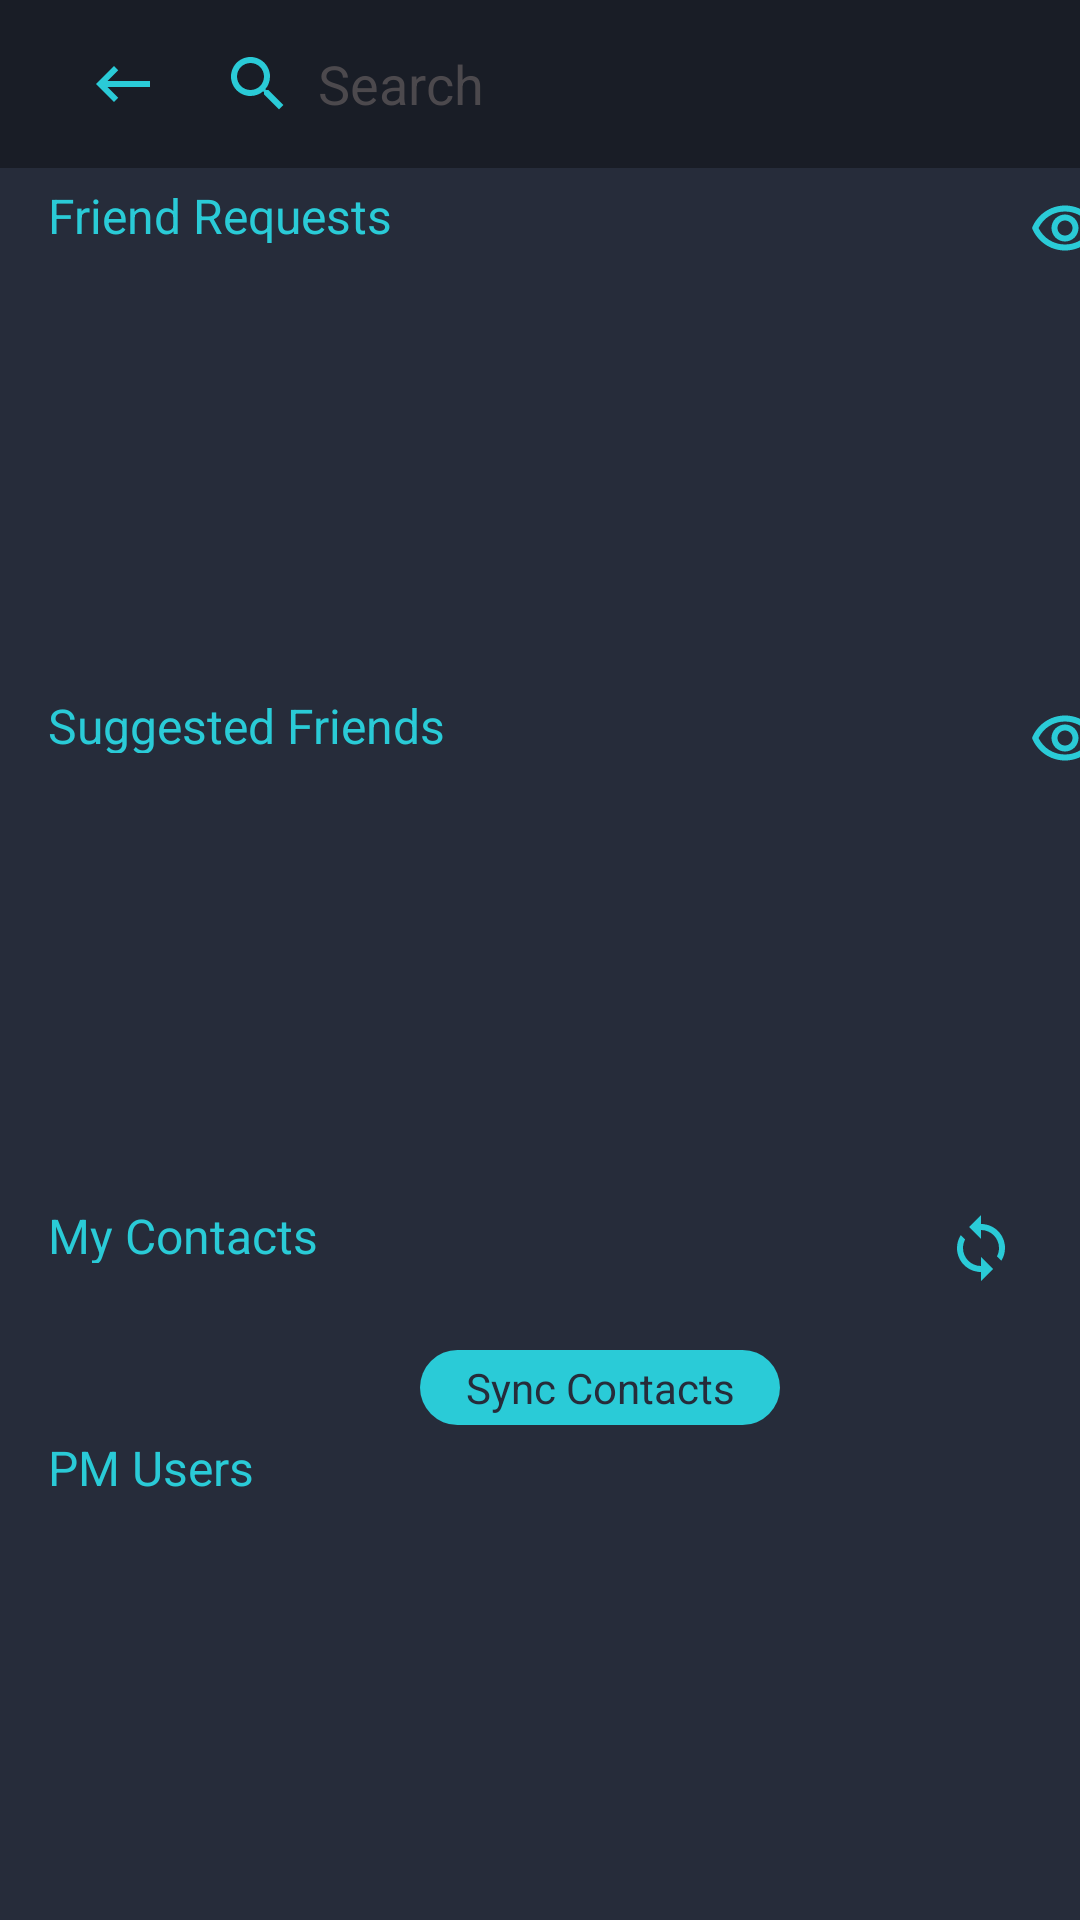

Named icons in this screenshot (1080x1920) and their bounding boxes, (x1, y1, x2, y2):
sync: (957, 1215, 1005, 1281)
